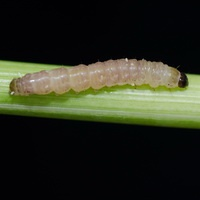insect: (10, 58, 187, 94)
